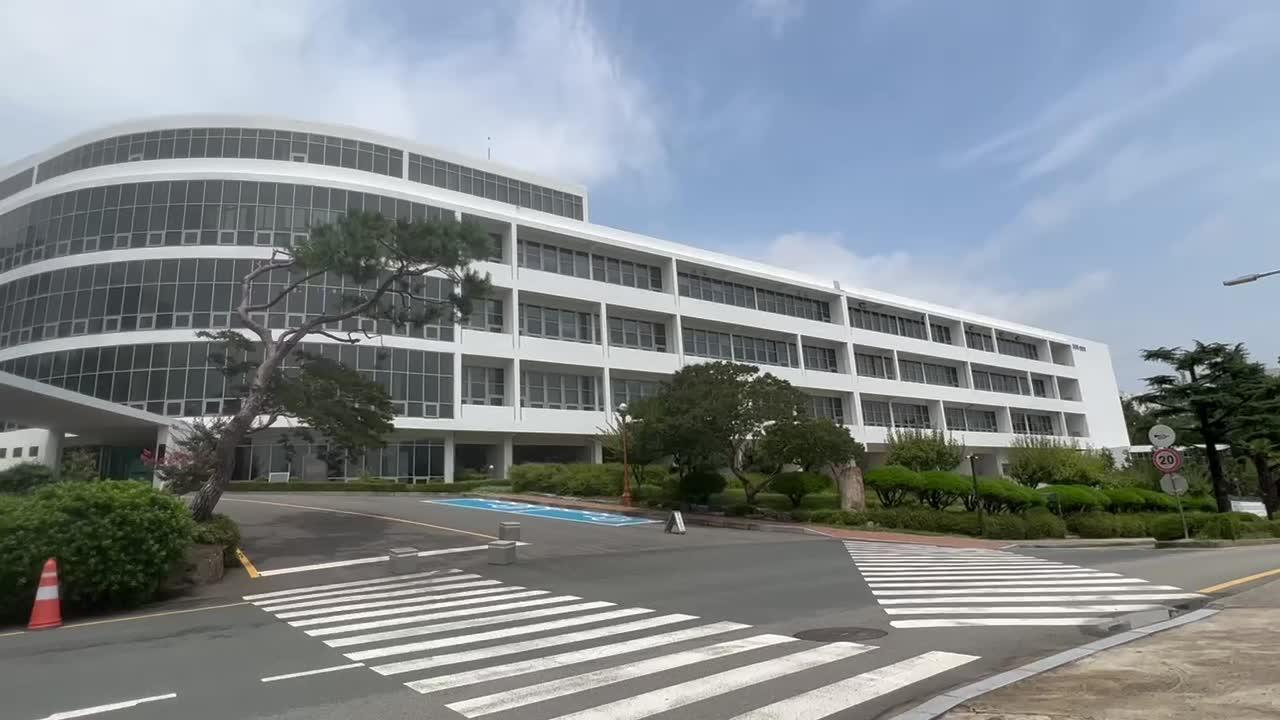building: (4, 121, 1121, 416)
